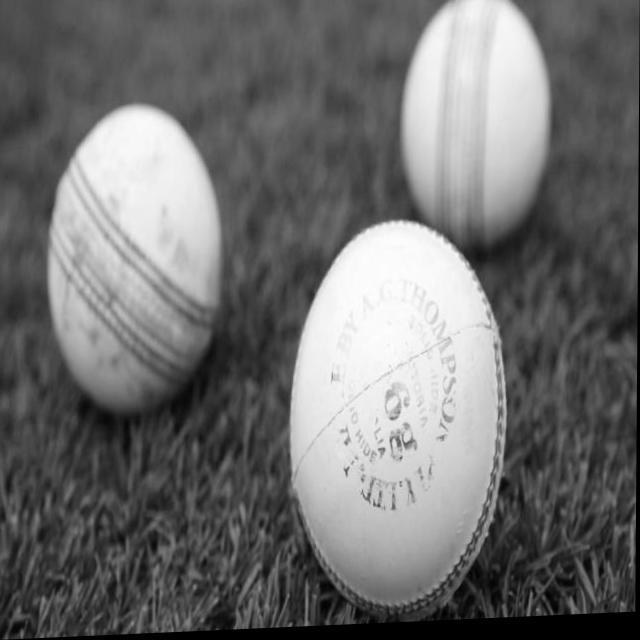cricket ball: (290, 223, 507, 624)
